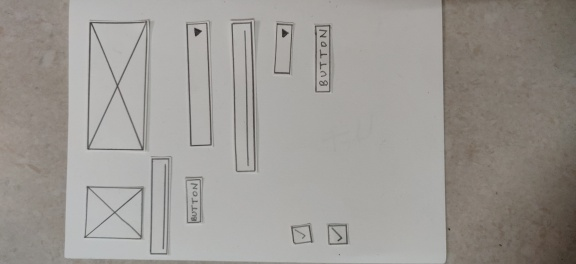button: (310, 22, 336, 95), (182, 174, 207, 228)
checkbox: (323, 220, 352, 249), (287, 221, 316, 247)
dropdown: (182, 19, 217, 149), (270, 19, 295, 80)
img: (84, 17, 150, 154), (80, 180, 146, 245)
text: (226, 17, 262, 174), (147, 156, 172, 256)
